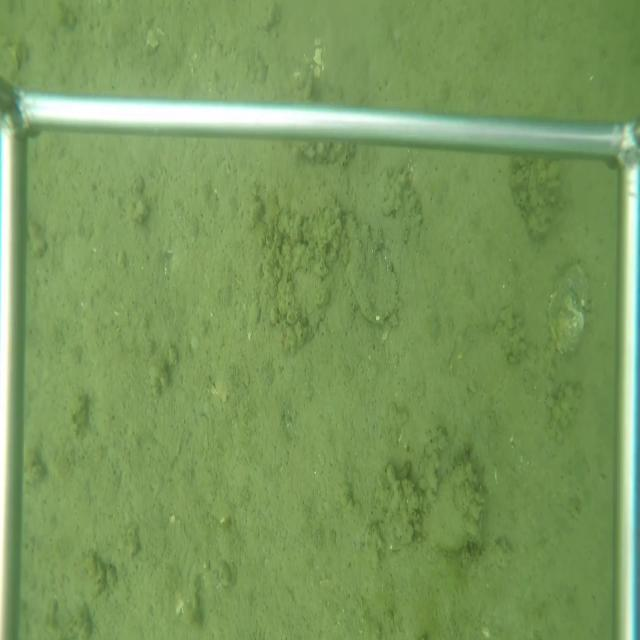Oyster-Indeterminate: (339, 207, 402, 332), (431, 447, 487, 558), (545, 263, 588, 360)
